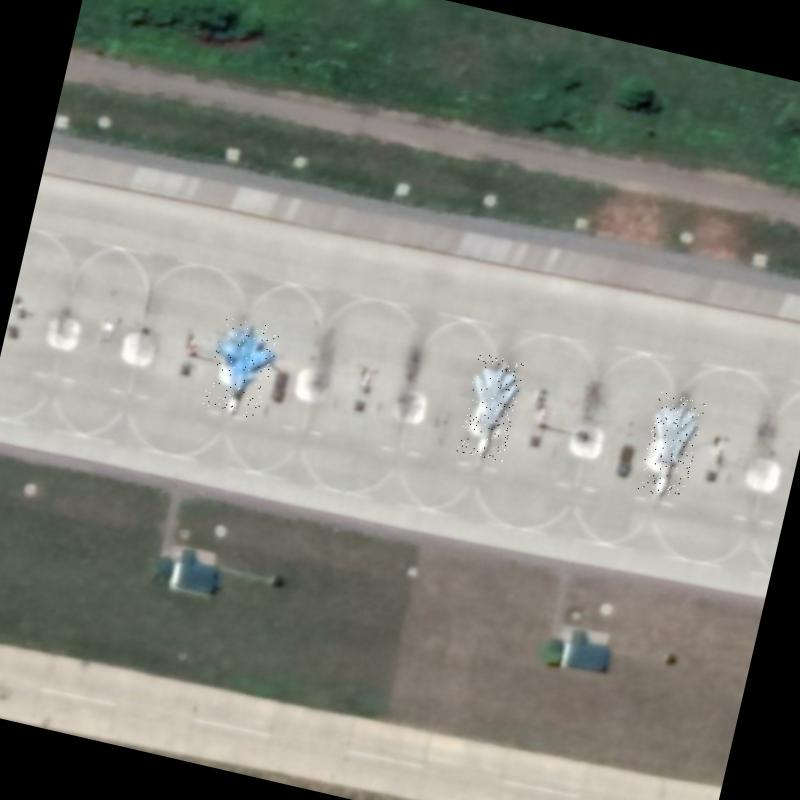A19: (201, 315, 282, 422)
A20: (636, 391, 706, 500), (456, 353, 526, 462)
